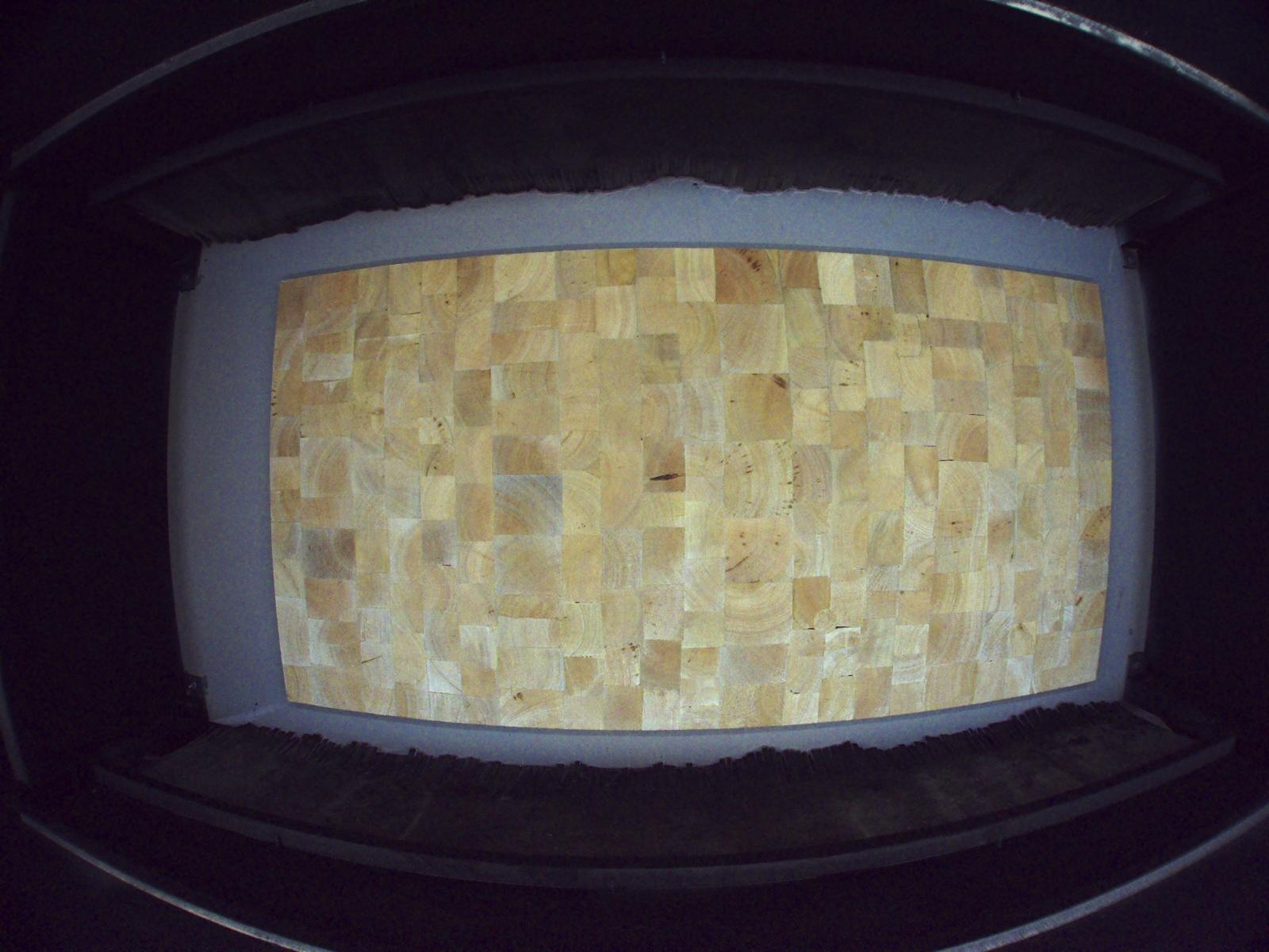nudillo: (649, 472, 686, 482)
